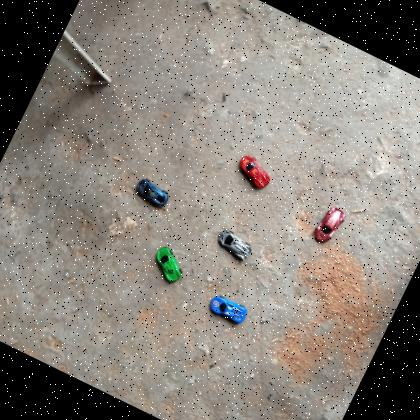Car: (147, 243, 190, 286), (232, 152, 276, 192), (310, 203, 347, 248), (206, 291, 250, 326), (212, 228, 255, 262), (132, 175, 172, 208)
